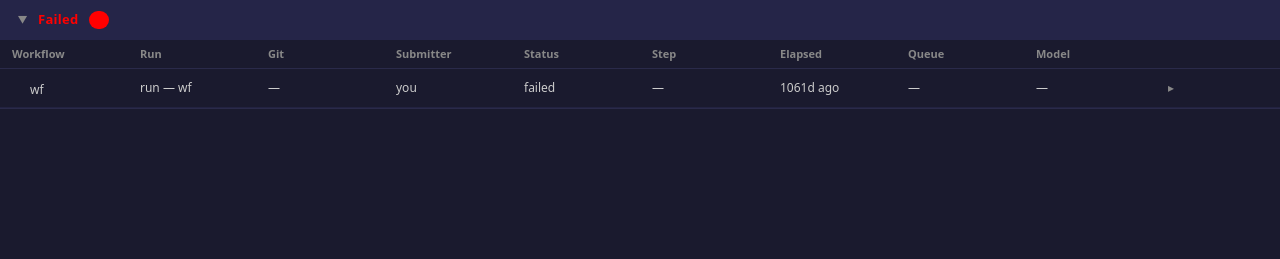
Test: QueueSection — row detail panel › collapses the detail panel on second expand click
This screenshot has width=1280, height=259.
Click the button named "expand".
click(1171, 88)  # box left=1164, top=79, right=1178, bottom=97
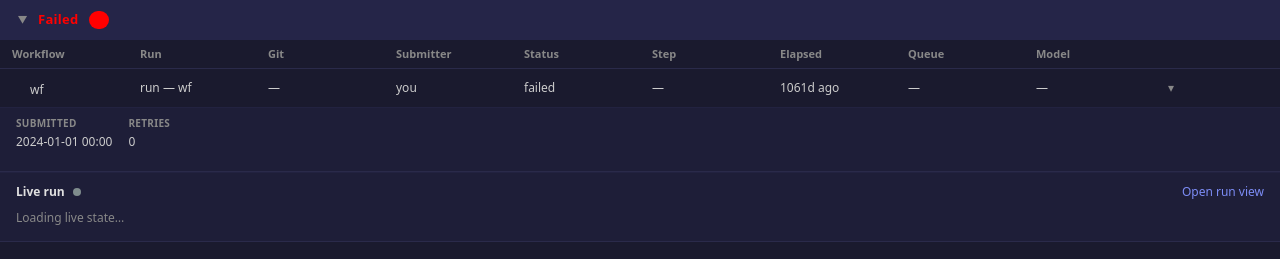
Expected: the element with test id "row-detail-panel" is shown, left=0, top=108, right=1279, bottom=172
Click the button named "collapse".
click(1171, 88)  # box left=1164, top=79, right=1178, bottom=97
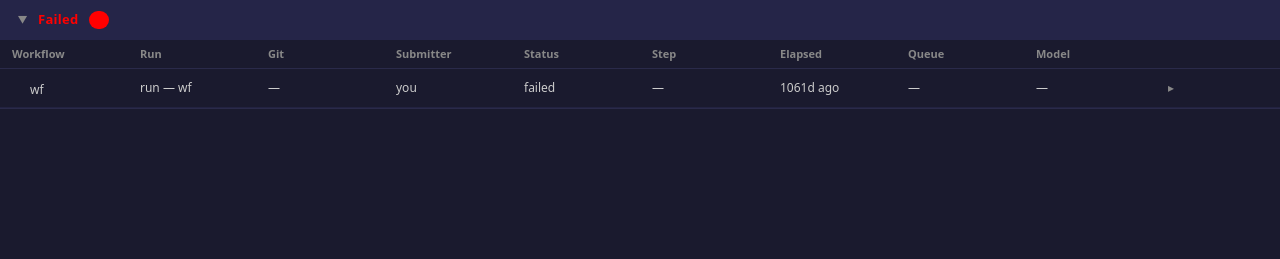
Expected: the element with test id "row-detail-panel" is gone
